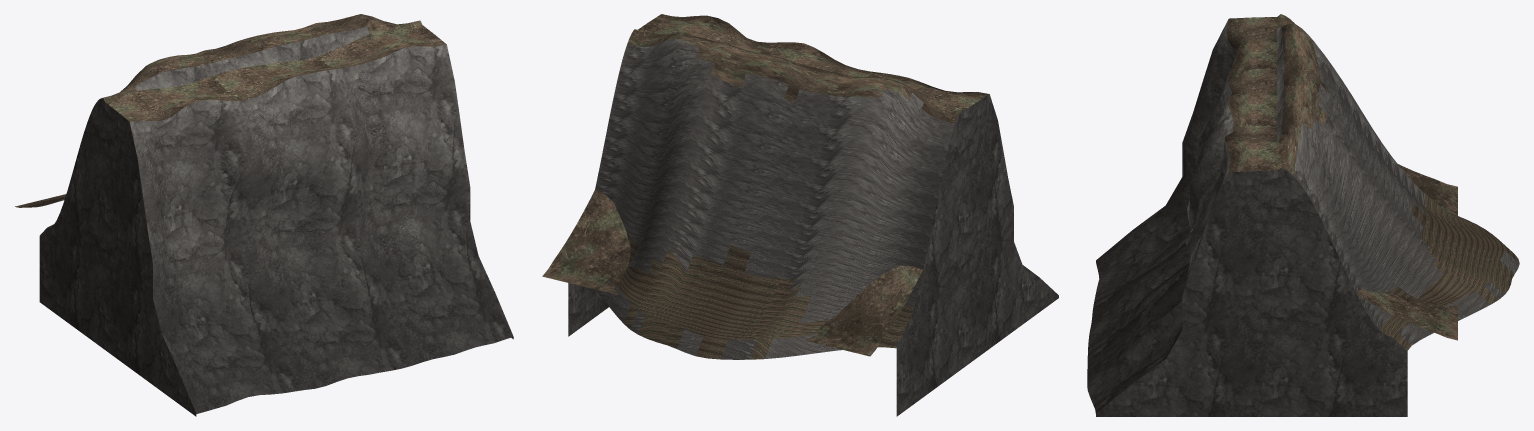
The model's file is seacliff_straight6c_h3_v5_autumn.glb.
3 views of the same model, side by side, from view 1: azimuth 30°, elevation 25°; view 2: azimuth 150°, elevation 25°; view 3: azimuth 270°, elevation 25° (orthographic). The views are drawn at different scales.
Visible parts, largest first — view 1: seacliff_straight6c_h3; view 2: seacliff_straight6c_h3; view 3: seacliff_straight6c_h3.
Boxes of the visible parts, left/top/right/bottom form: seacliff_straight6c_h3: left=15, top=14, right=513, bottom=416; seacliff_straight6c_h3: left=542, top=14, right=1058, bottom=416; seacliff_straight6c_h3: left=1087, top=14, right=1519, bottom=416.
Size of the model in its own units: 6 by 4.84 by 7.13.
Materials: 2 (2 with a texture image).
